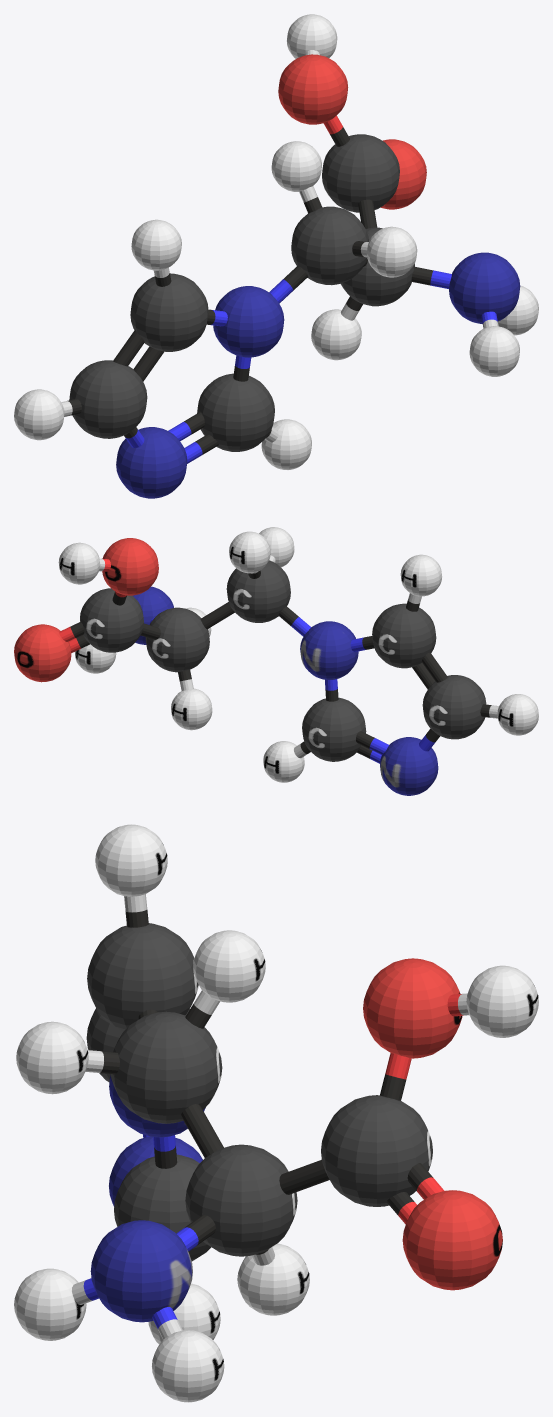
Rendered from Histidina.fbx.
3 renders of one model, top to bottom at view 1: azimuth 30°, elevation 25°; view 2: azimuth 150°, elevation 25°; view 3: azimuth 270°, elevation 25°, orthographic. The views are drawn at different scales.
Visible parts, largest first — view 1: Histidina; view 2: Histidina; view 3: Histidina.
Boxes of the visible parts, <box> form: Histidina: <box>14,14,538,498</box>; Histidina: <box>14,527,538,795</box>; Histidina: <box>14,824,538,1402</box>.
Size of the model in its own units: 24.14 by 14.39 by 14.32.
9 materials, 4 textured.
